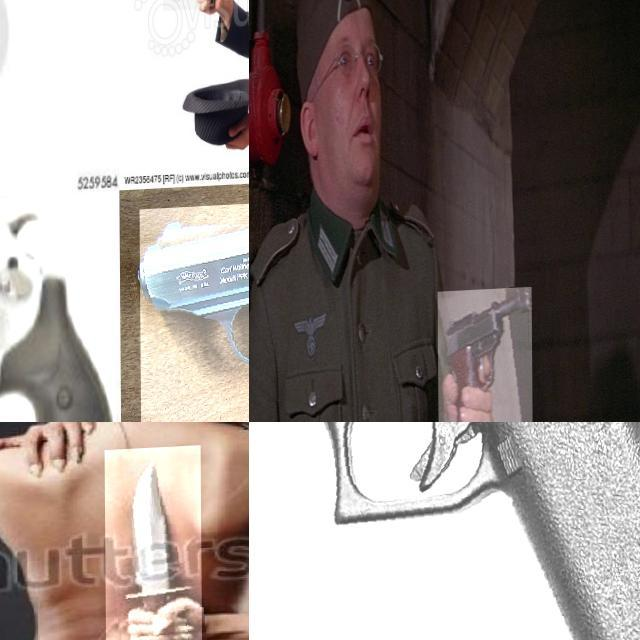-: (104, 449, 201, 640)
gun-knife-thesis - v11 Yolov5 augmented: (249, 422, 640, 640), (0, 195, 155, 422), (139, 201, 249, 422), (437, 291, 531, 422), (0, 0, 47, 181), (162, 0, 214, 27)
